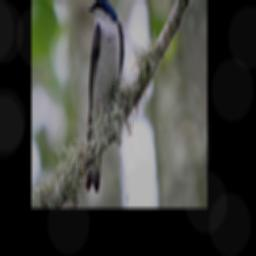Swallow: (82, 0, 125, 195)
